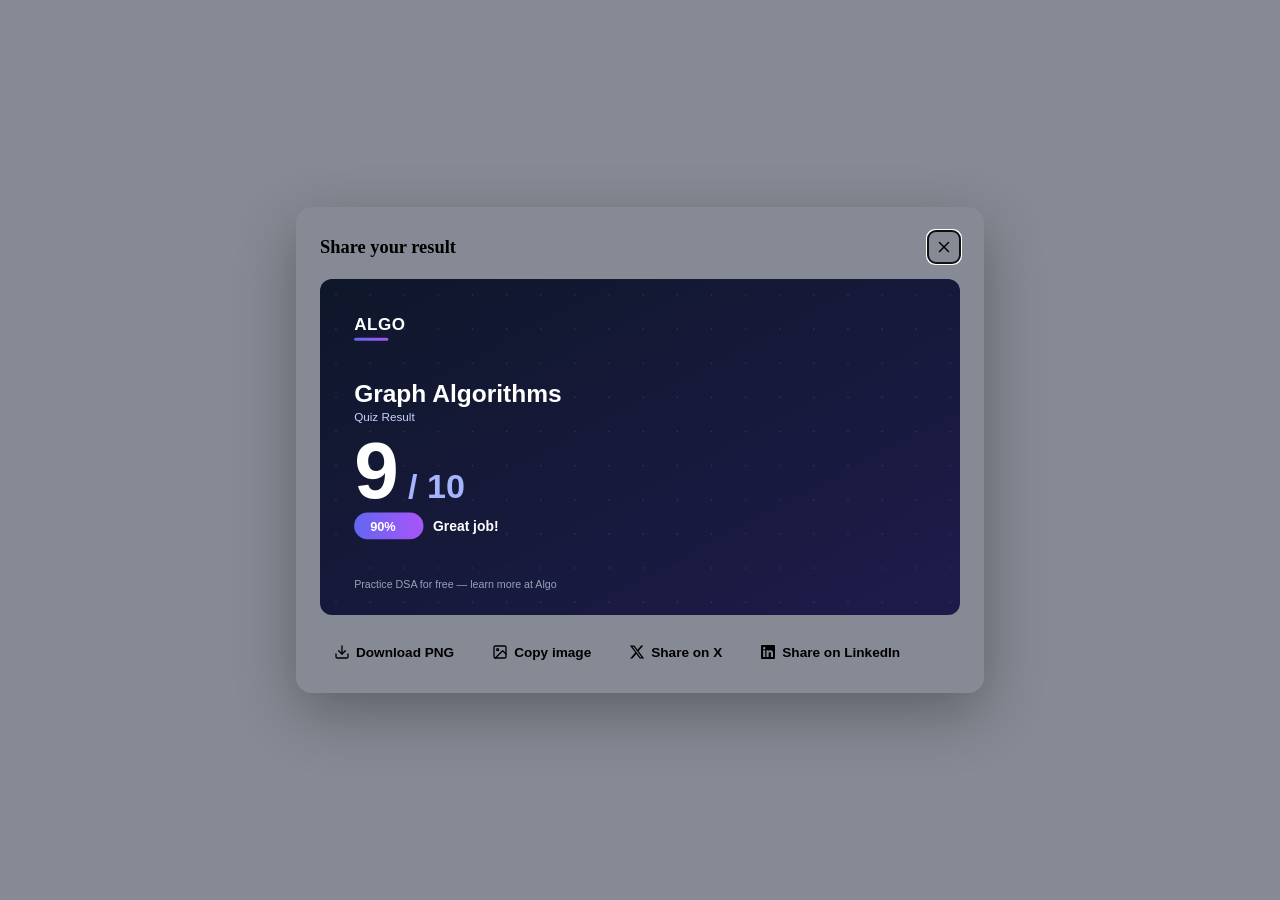
Test: ShareResultModal › downloads a PNG using the shared rendering utility
Click the button "Download PNG" at (394,652), box left=320, top=635, right=468, bottom=669
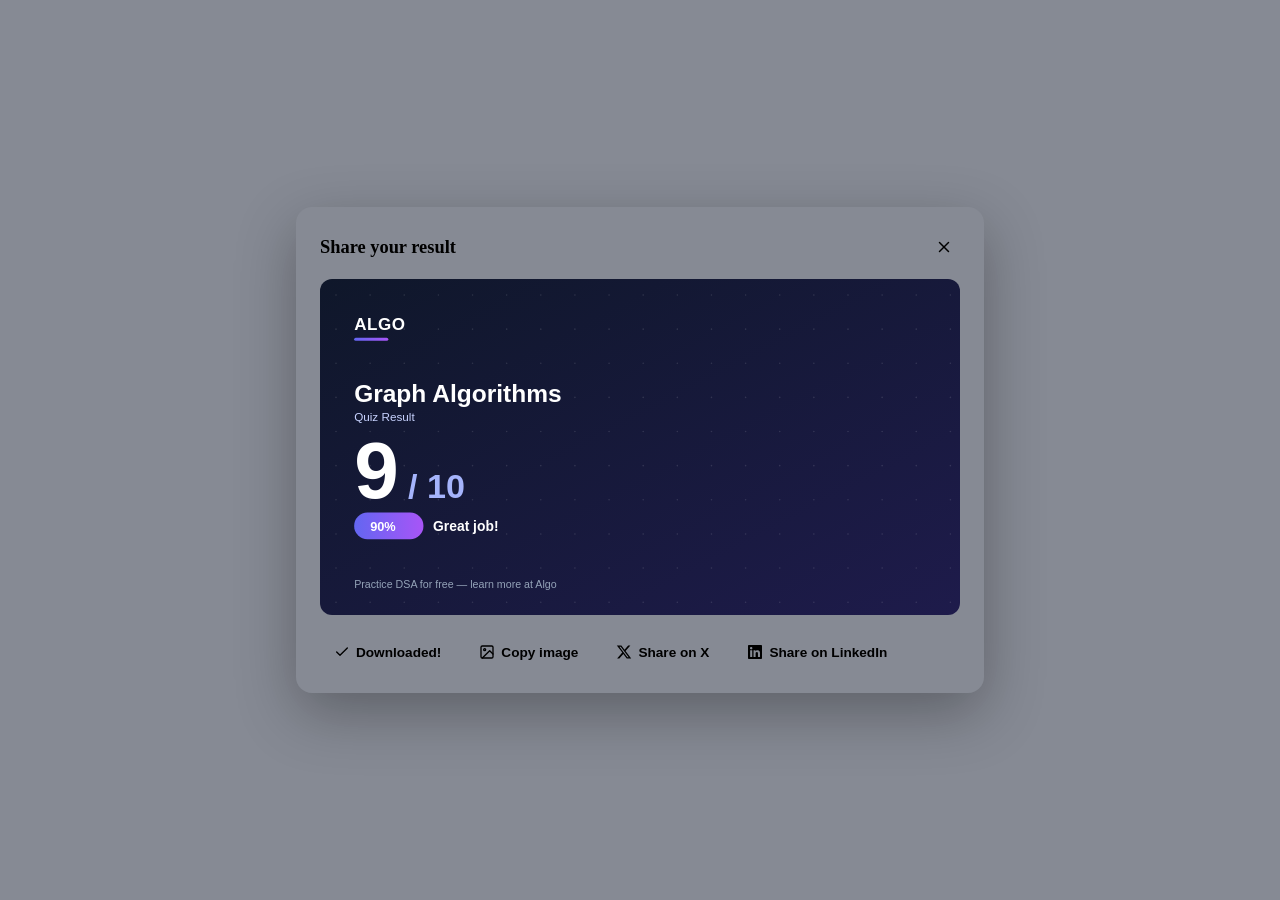
Now the button "Downloaded!" is shown, box left=320, top=635, right=455, bottom=669
